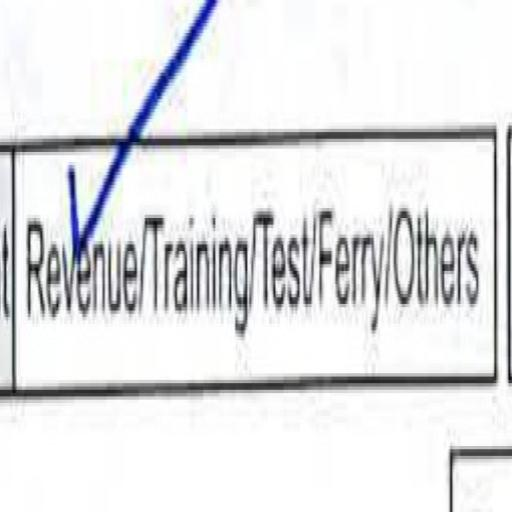check: (16, 110, 140, 384)
